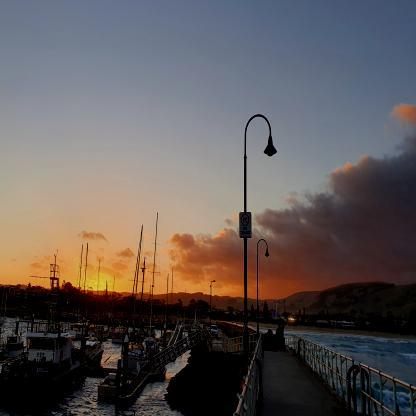light_pole: (244, 114, 277, 380), (257, 239, 270, 342), (210, 280, 216, 327)
